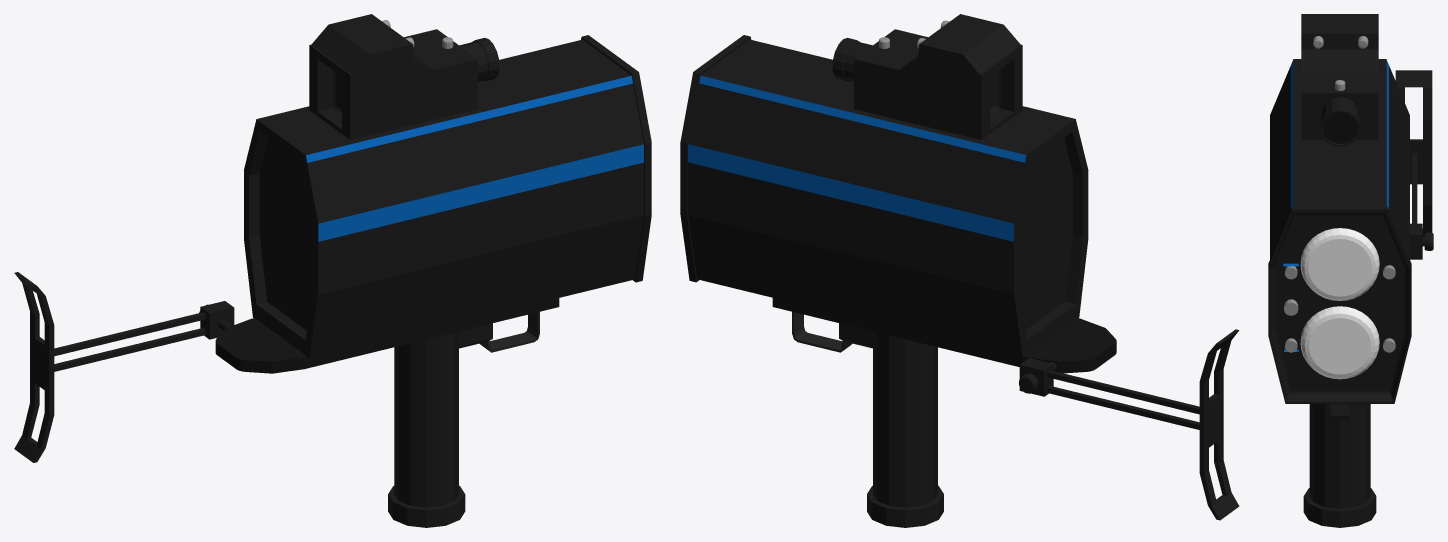
Rendered from pistoletradar.obj.
3 renders of one model, left to right at view 1: azimuth 30°, elevation 25°; view 2: azimuth 150°, elevation 25°; view 3: azimuth 270°, elevation 25°, orthographic. The views are drawn at different scales.
Visible parts, largest first — view 1: Cube.001_Cube.002; view 2: Cube.001_Cube.002; view 3: Cube.001_Cube.002.
Part boxes in pixels (x1,y1,x2,y2): Cube.001_Cube.002: (14, 14, 651, 527); Cube.001_Cube.002: (680, 14, 1239, 527); Cube.001_Cube.002: (1268, 14, 1433, 527).
Bounding box in the file's own units: 1.4 × 1.19 × 0.3845.
Materials: 1 (1 with a texture image).
